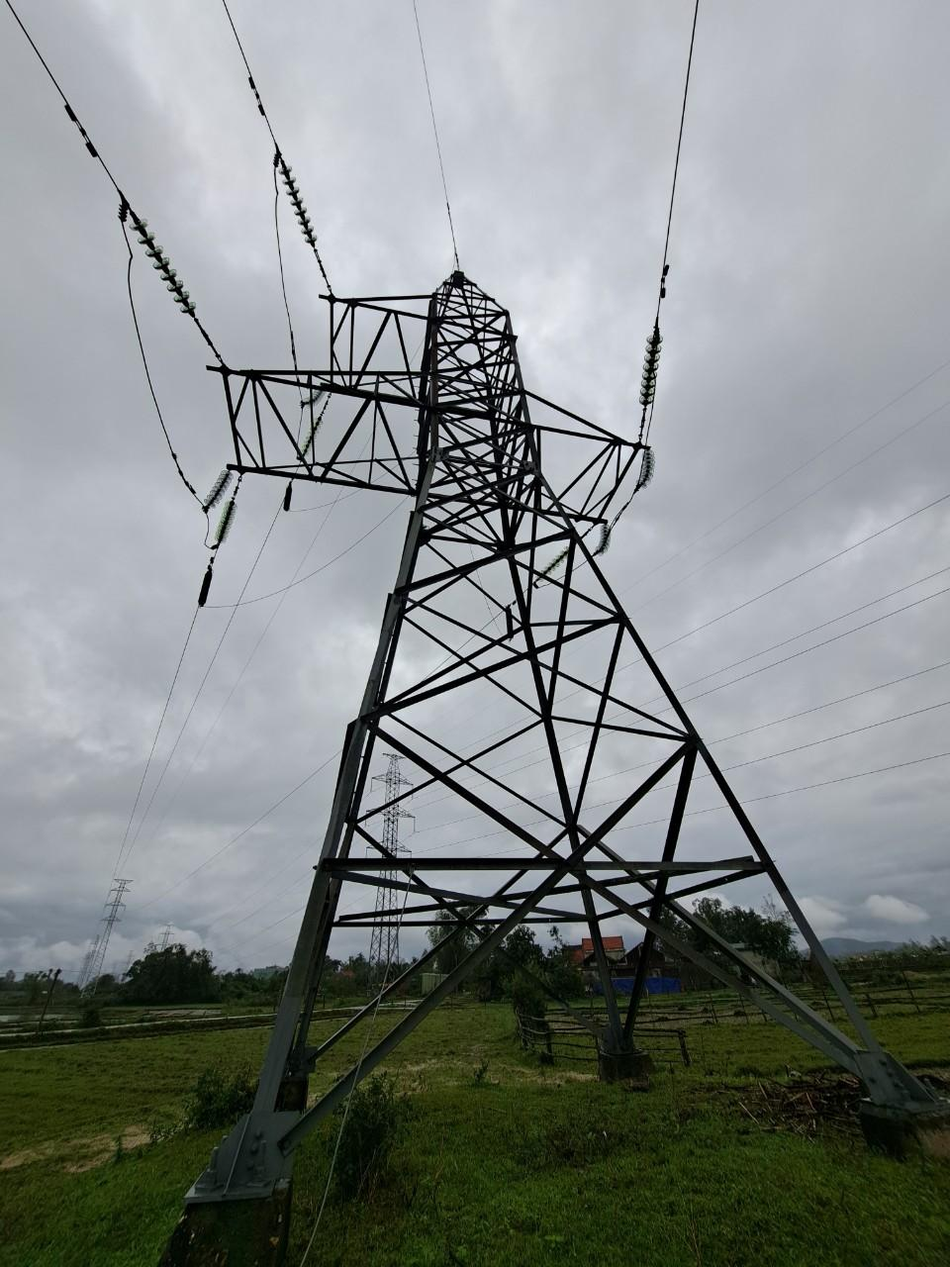power_tower: (280, 250, 891, 1162)
